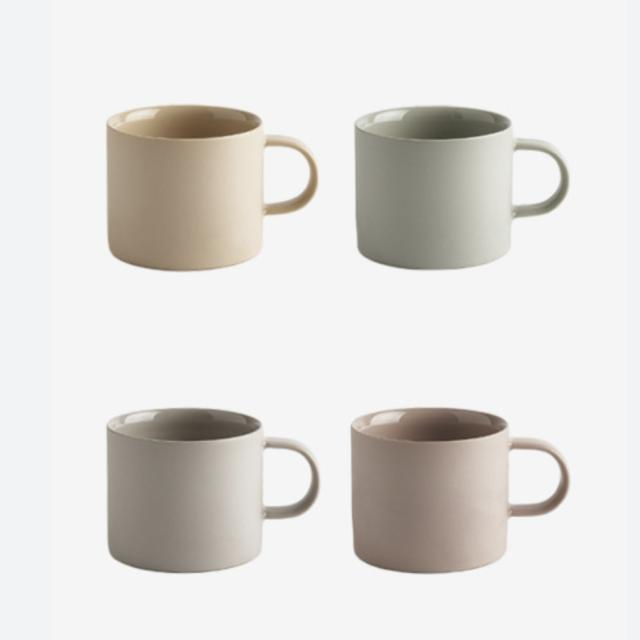recyclable: (87, 390, 324, 580), (342, 92, 578, 281), (97, 92, 327, 280), (344, 396, 572, 582)
